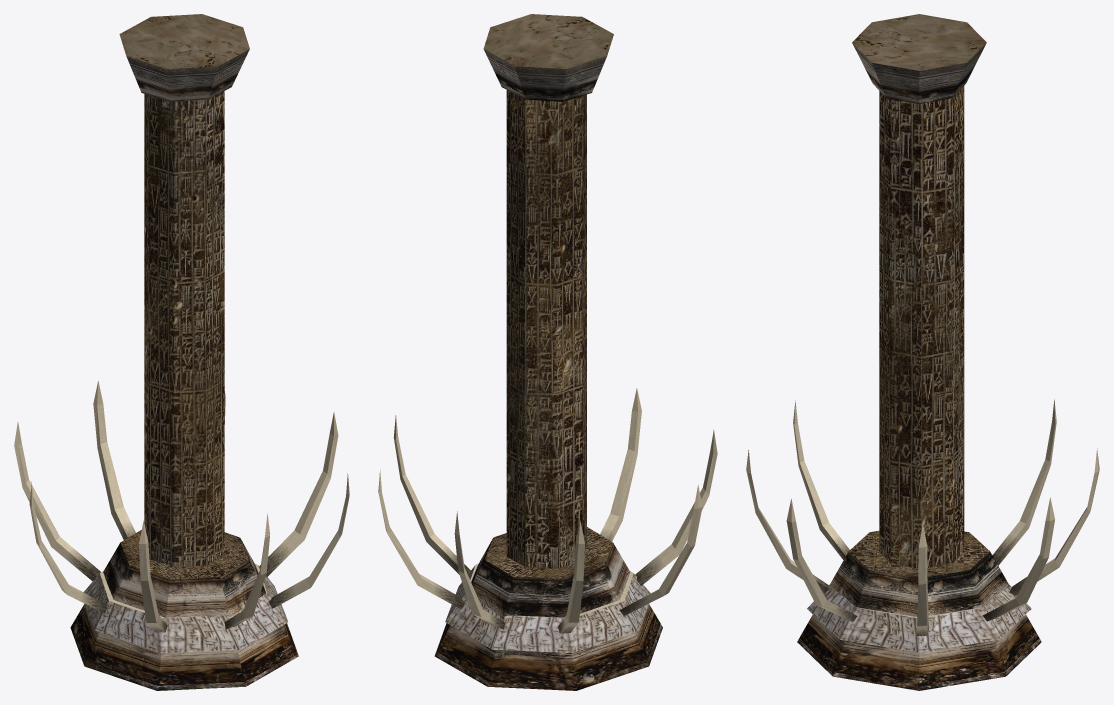
File: DEMONICPILLAR4.fbx
3 renders of one model, left to right at view 1: azimuth 30°, elevation 25°; view 2: azimuth 150°, elevation 25°; view 3: azimuth 270°, elevation 25°, orthographic.
Parts seen in each view (by area): view 1: Mesh1; view 2: Mesh1; view 3: Mesh1.
Boxes of the visible parts, box(x1,y1,x2,y2) form: Mesh1: box(14, 14, 349, 690); Mesh1: box(378, 14, 717, 690); Mesh1: box(746, 14, 1099, 690).
Bounding box in the file's own units: 4.11 × 7.69 × 4.11.
